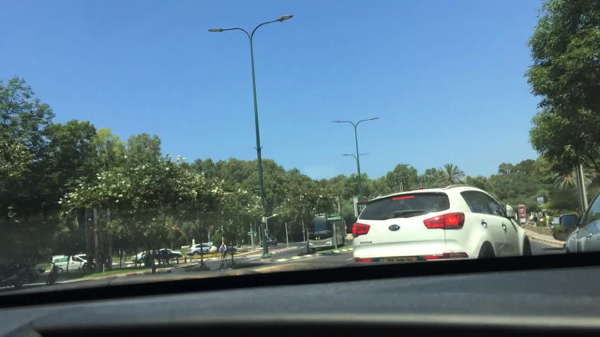bike: (218, 250, 228, 262)
bus: (306, 213, 345, 251)
car: (352, 185, 530, 263), (558, 188, 599, 253), (50, 256, 94, 273), (185, 242, 217, 255), (153, 249, 181, 259), (258, 236, 279, 248), (132, 251, 152, 263), (74, 255, 98, 264), (212, 244, 236, 252)
motor: (0, 263, 32, 289), (44, 260, 64, 286)
person: (531, 213, 538, 226)
rider: (218, 242, 226, 254)
